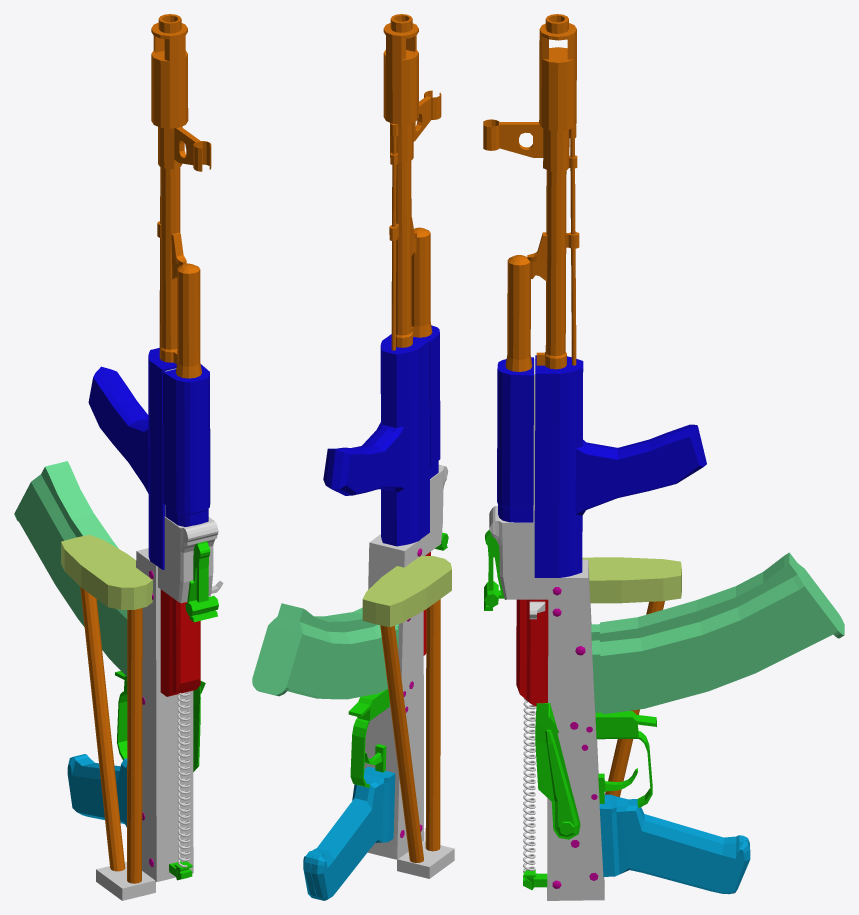
The model's file is AK74_Folded.fbx.
3 views of the same model, side by side, from view 1: azimuth 30°, elevation 25°; view 2: azimuth 150°, elevation 25°; view 3: azimuth 270°, elevation 25° (orthographic). The views are drawn at different scales.
Parts seen in each view (by area): view 1: AK.001; view 2: AK.001; view 3: AK.001.
Boxes of the visible parts, x1,y1,x2,y2 form: AK.001: (14,14,223,900); AK.001: (252,14,454,900); AK.001: (483,14,844,900).
Size of the model in its own units: 5.05 by 43.02 by 15.92.
